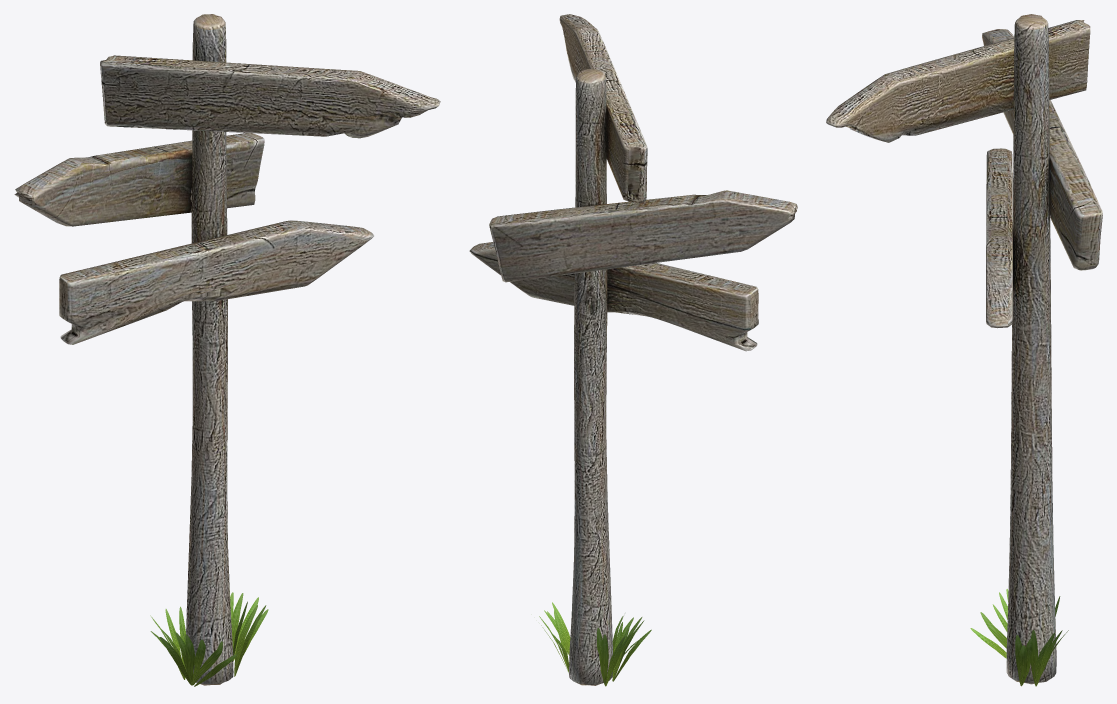
File: signpost.opt.glb
The picture shows the model from 3 angles, left to right: view 1: azimuth 30°, elevation 25°; view 2: azimuth 150°, elevation 25°; view 3: azimuth 270°, elevation 25°; orthographic projection. The views are drawn at different scales.
Visible parts, largest first — view 1: UKAZ3_LOW; view 2: UKAZ3_LOW; view 3: UKAZ3_LOW.
Part boxes in pixels (x1=…): UKAZ3_LOW: x1=14, y1=14, x2=440, y2=686; UKAZ3_LOW: x1=469, y1=14, x2=797, y2=686; UKAZ3_LOW: x1=826, y1=14, x2=1102, y2=686.
Bounding box in the file's own units: 554 × 995 × 377.
2 materials, 2 textured.
